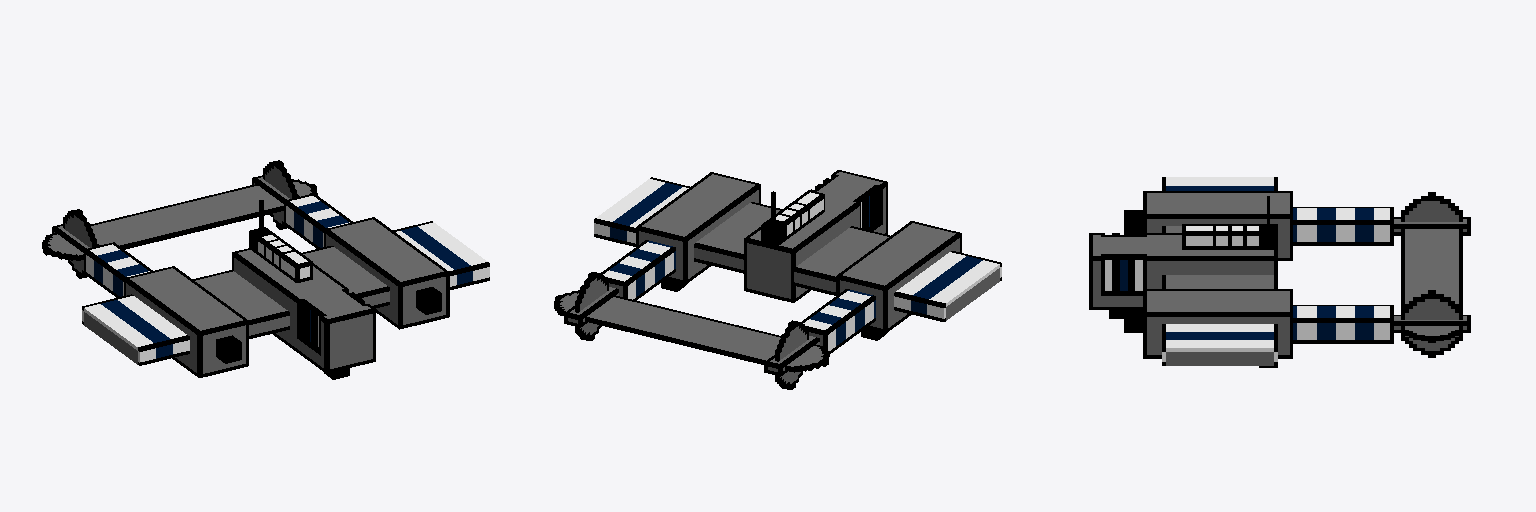
3 views of the same model, side by side, from view 1: azimuth 30°, elevation 25°; view 2: azimuth 150°, elevation 25°; view 3: azimuth 270°, elevation 25° (orthographic).
Visible parts, largest first — view 1: P_38-0; view 2: P_38-0; view 3: P_38-0.
Boxes of the visible parts, x1,y1,x2,y2 form: P_38-0: [42, 160, 489, 379]; P_38-0: [554, 170, 1001, 389]; P_38-0: [1089, 177, 1470, 367].
Bounding box in the file's own units: 105 × 34 × 99.
1 materials, 1 textured.